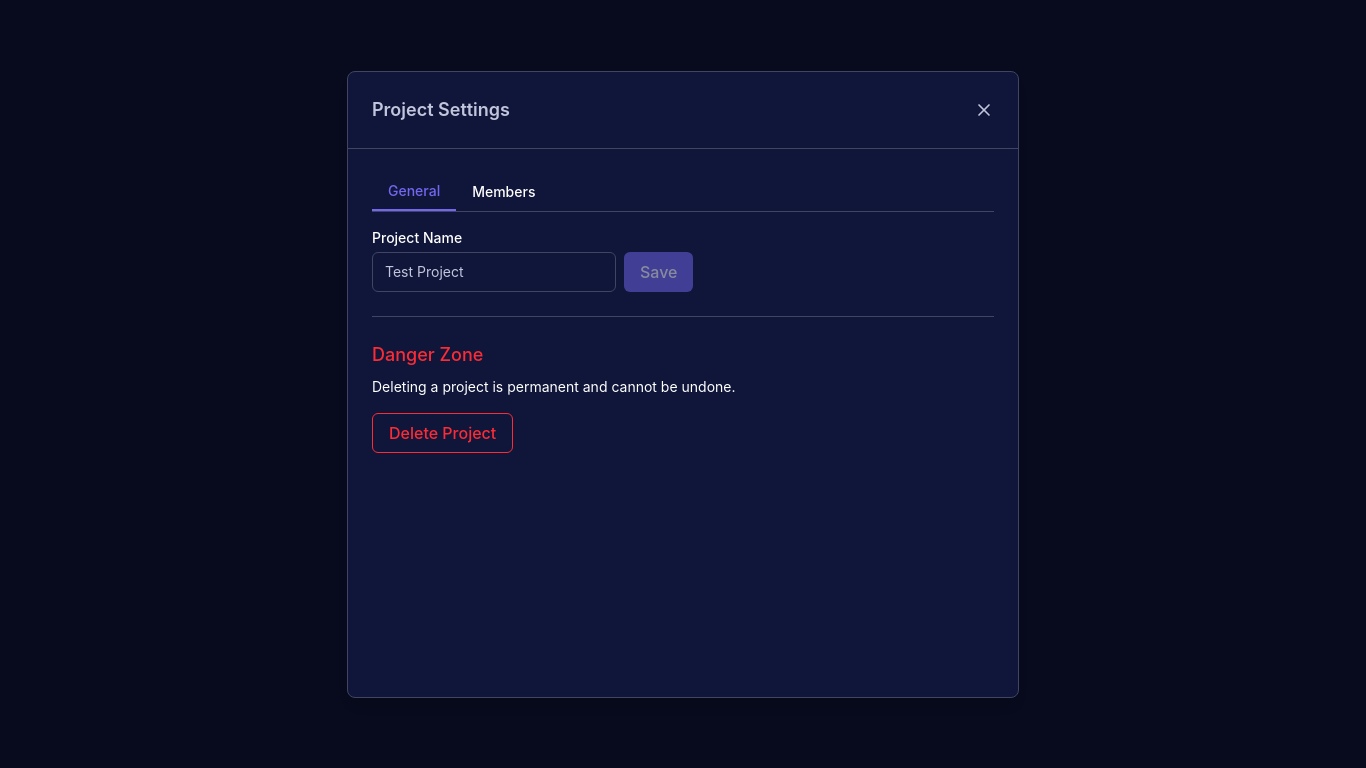
Test: ProjectSettingsModal › renders delete options for owner
Step 1. Click the button "Delete Project" → [443, 432], box [372, 412, 513, 452]
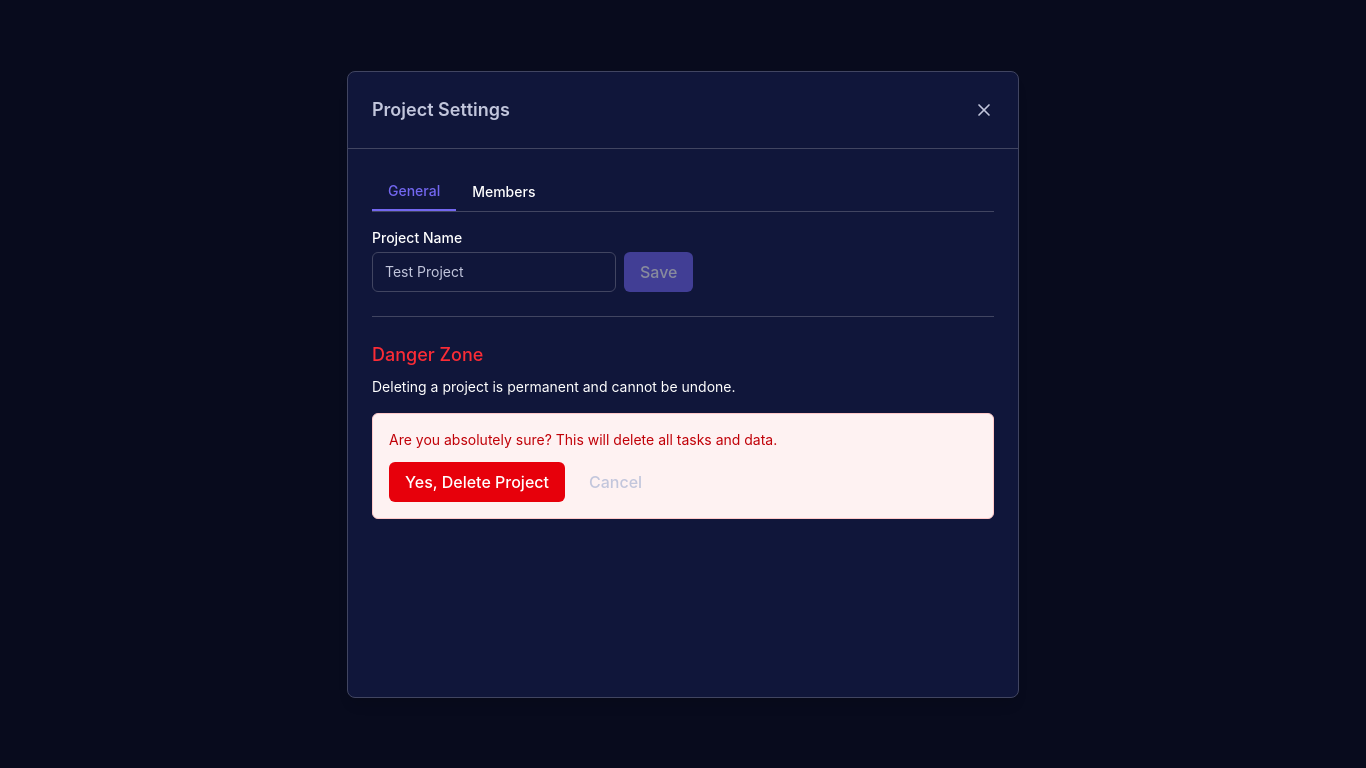
Check: the text "Are you absolutely sure? This will delete all tasks and data." is shown, box [389, 430, 777, 448]
